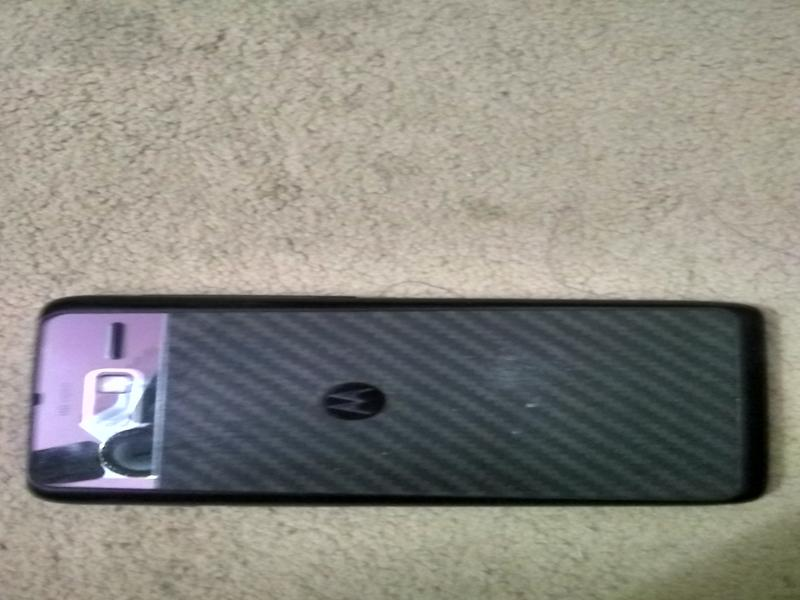moto: (24, 290, 768, 504)
